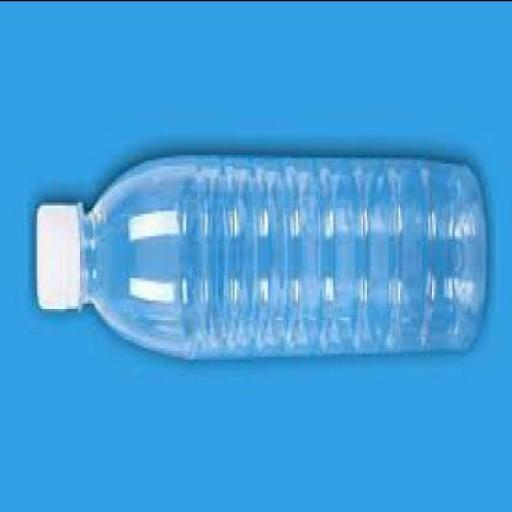plastic: (34, 159, 488, 364), (33, 205, 84, 313)
